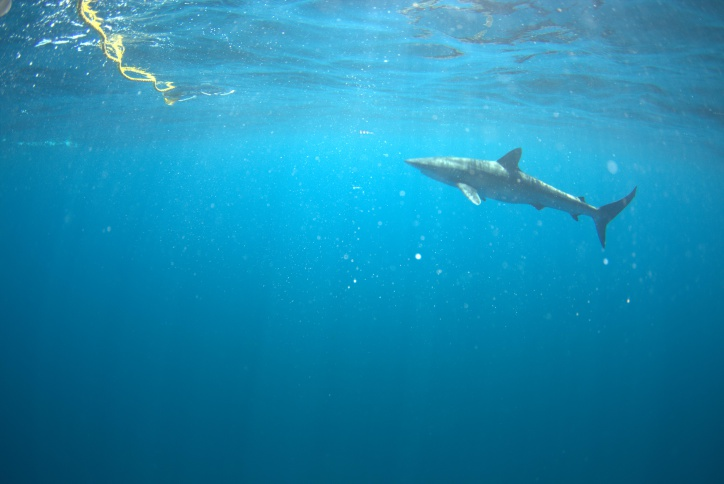Sedoso: (385, 141, 644, 253)
